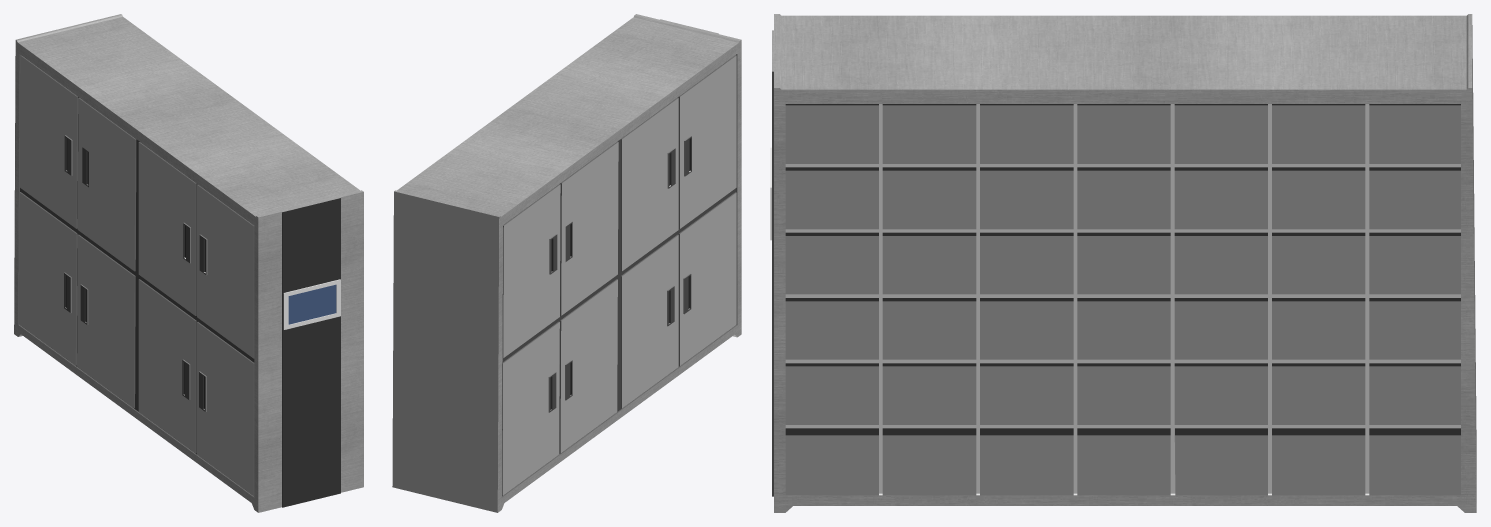
File: mjjleft6-7-fit.obj
3 renders of one model, left to right at view 1: azimuth 30°, elevation 25°; view 2: azimuth 150°, elevation 25°; view 3: azimuth 270°, elevation 25°, orthographic. The views are drawn at different scales.
Visible parts, largest first — view 1: mjj, Mesh02; view 2: mjj; view 3: mjj.
Part boxes in pixels (x1,y1,x2,y2): mjj: [14, 14, 363, 512]; Mesh02: [283, 279, 340, 329]; mjj: [392, 14, 741, 512]; mjj: [772, 14, 1476, 512].
Size of the model in its own units: 35.84 by 94.93 by 143.
